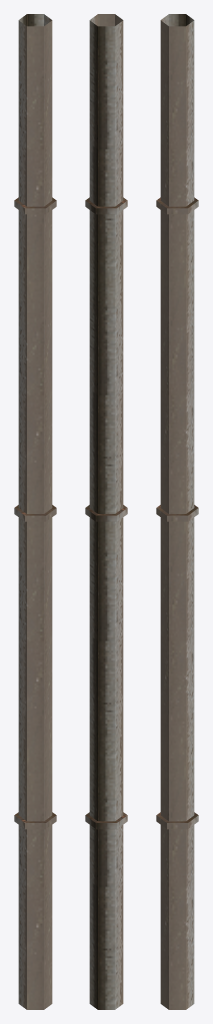
Rendered from Pipe01StraightLong.obj.
The picture shows the model from 3 angles, left to right: view 1: azimuth 30°, elevation 25°; view 2: azimuth 150°, elevation 25°; view 3: azimuth 330°, elevation 25°; orthographic projection.
Visible parts, largest first — view 1: Pipe01StraightLong; view 2: Pipe01StraightLong; view 3: Pipe01StraightLong.
Boxes of the visible parts, x1=… form: Pipe01StraightLong: x1=14, y1=14, x2=56, y2=1009; Pipe01StraightLong: x1=85, y1=14, x2=127, y2=1009; Pipe01StraightLong: x1=156, y1=14, x2=198, y2=1009.
Size of the model in its own units: 0.5413 by 16 by 0.625.
